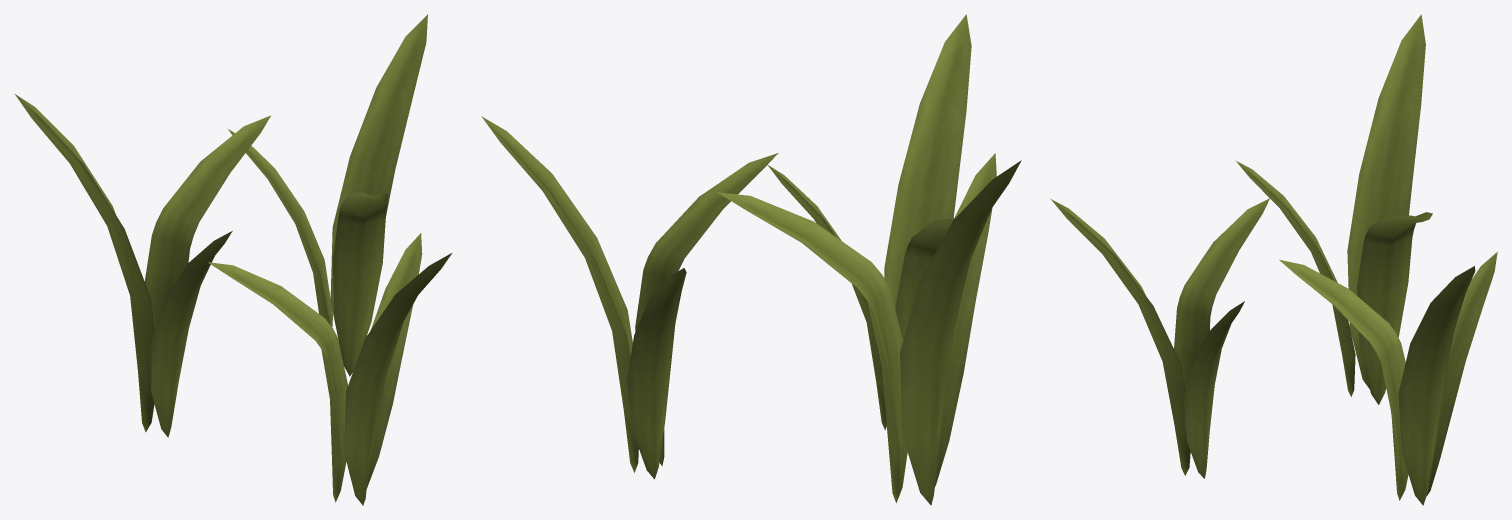
File: Crop_Wheat_Stage_02.fbx
3 views of the same model, side by side, from view 1: azimuth 30°, elevation 25°; view 2: azimuth 150°, elevation 25°; view 3: azimuth 270°, elevation 25° (orthographic). The views are drawn at different scales.
Visible parts, largest first — view 1: Wheat_Stage_02; view 2: Wheat_Stage_02; view 3: Wheat_Stage_02.
Part boxes in pixels (left/top/right/bottom): Wheat_Stage_02: left=15, top=14, right=451, bottom=505; Wheat_Stage_02: left=481, top=14, right=1021, bottom=505; Wheat_Stage_02: left=1051, top=14, right=1497, bottom=505.
Size of the model in its own units: 33.22 by 27.04 by 30.63.
